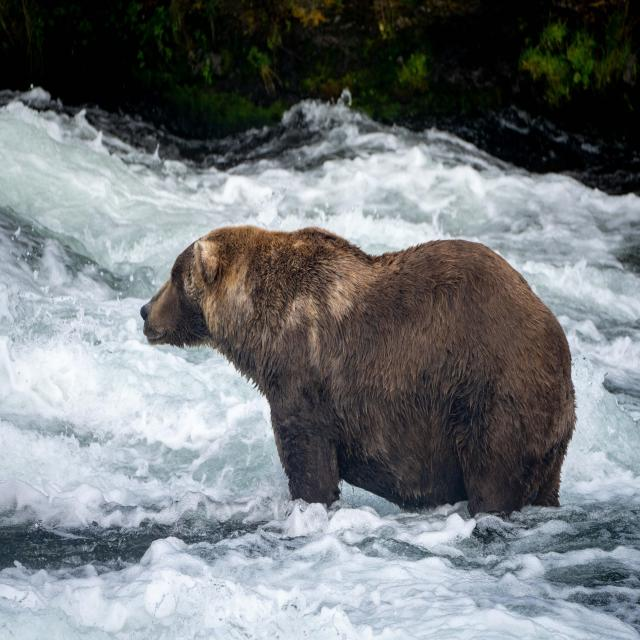Bear: (139, 225, 578, 521)
